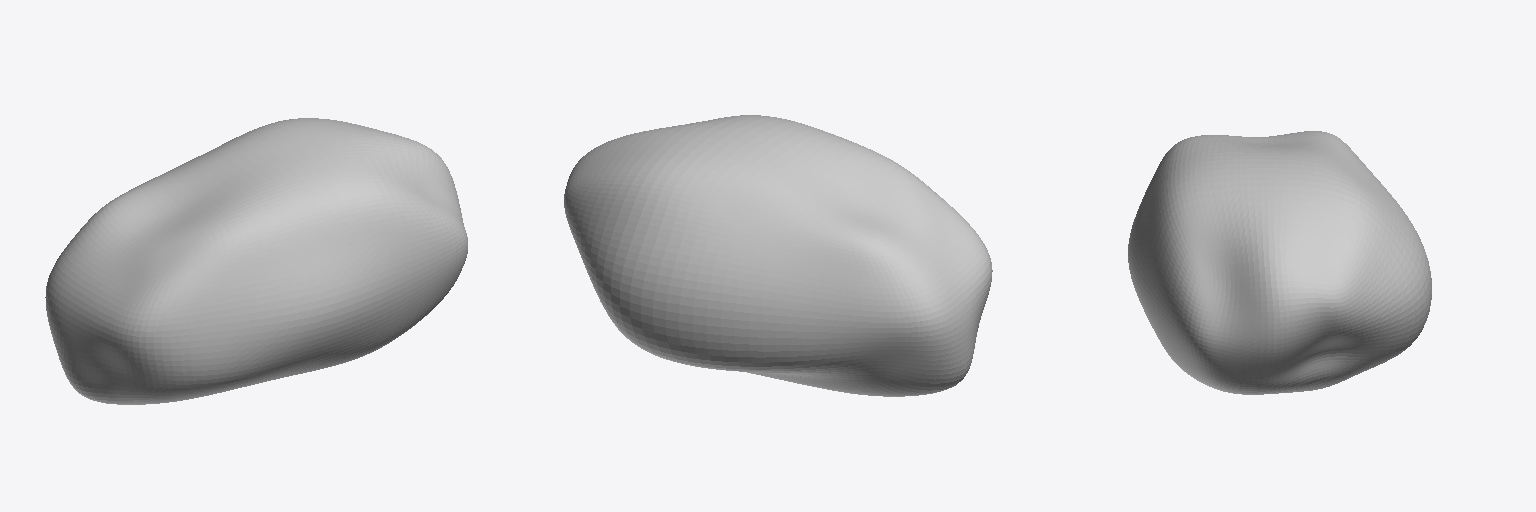
The model's file is pebbles_2.obj.
3 renders of one model, left to right at view 1: azimuth 30°, elevation 25°; view 2: azimuth 150°, elevation 25°; view 3: azimuth 270°, elevation 25°, orthographic.
Parts seen in each view (by area): view 1: Rock.Landscape.Style_2; view 2: Rock.Landscape.Style_2; view 3: Rock.Landscape.Style_2.
Part boxes in pixels (x1,y1,x2,y2): Rock.Landscape.Style_2: (45,118,467,404); Rock.Landscape.Style_2: (564,115,992,396); Rock.Landscape.Style_2: (1128,131,1431,394).
Bounding box in the file's own units: 3.8 × 1.96 × 2.57.